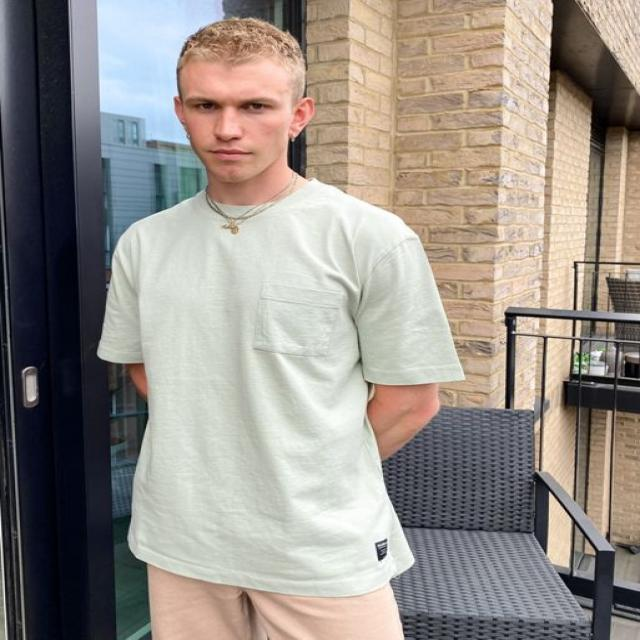tshirt: (95, 177, 463, 597)
